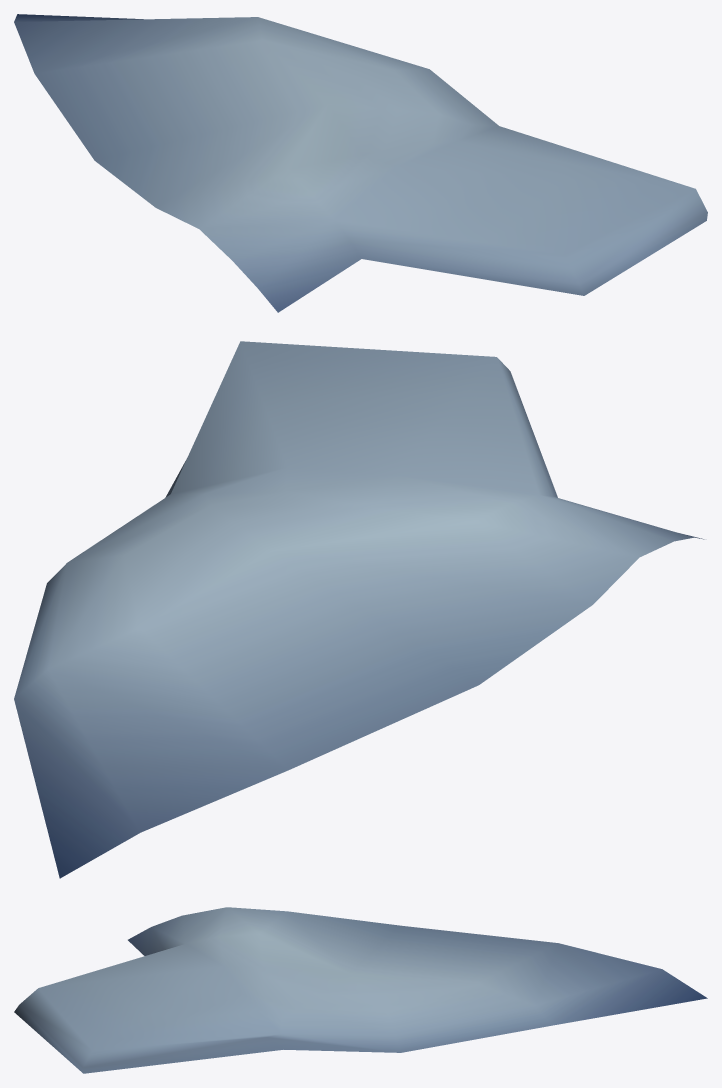
File: rock4.fbx
3 views of the same model, one above another, from view 1: azimuth 30°, elevation 25°; view 2: azimuth 150°, elevation 25°; view 3: azimuth 270°, elevation 25° (orthographic). The views are drawn at different scales.
Parts seen in each view (by area): view 1: rock4; view 2: rock4; view 3: rock4.
Boxes of the visible parts, x1,y1,x2,y2 form: rock4: [14, 14, 707, 312]; rock4: [14, 341, 704, 878]; rock4: [14, 907, 707, 1073].
Bounding box in the file's own units: 0.1351 × 0.0222 × 0.2609.
Materials: 1 (1 with a texture image).
